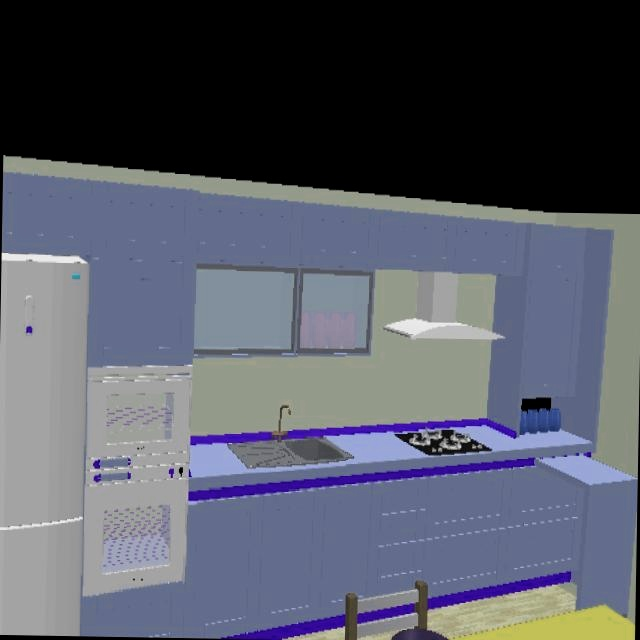countertop: (189, 419, 591, 488), (539, 454, 631, 594)
fridge: (0, 253, 90, 635)
microwave: (86, 365, 192, 481)
oven: (84, 480, 188, 591)
sink: (227, 437, 346, 472)
stove: (393, 430, 491, 455)
